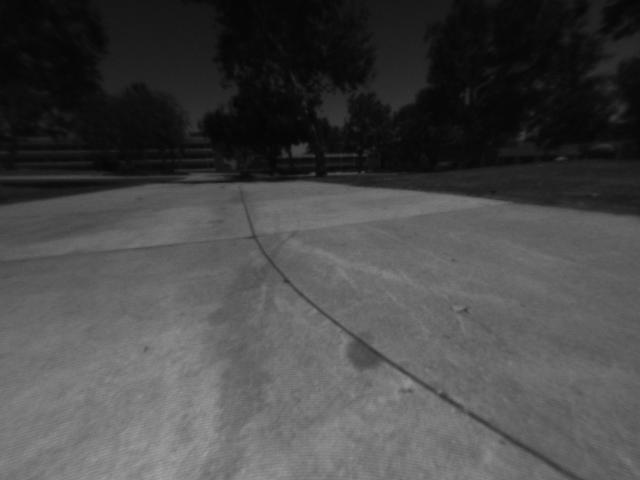dogtoy: (485, 182, 504, 197)
